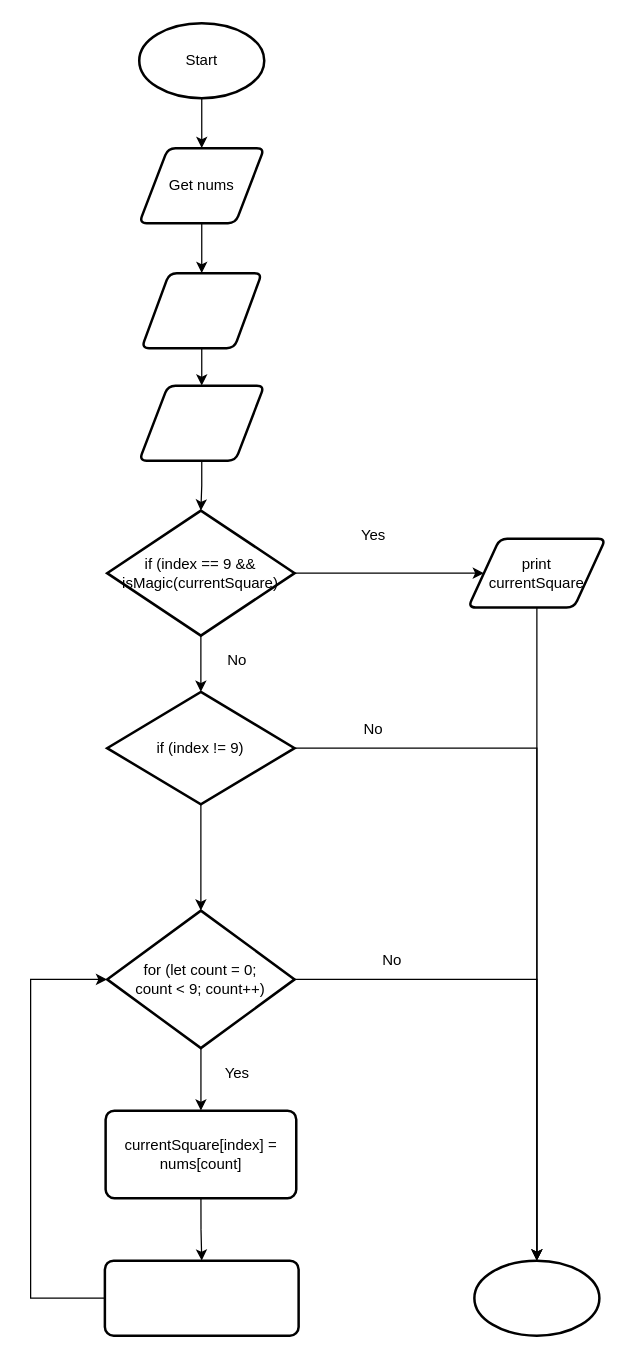
Some shapes in this 629 by 1358 pixel diagram are drawn without their labels. The shapes that lost their labels are listed below. From the top down, each one's centre as x and y in pixels, then its label:
At point (201, 310): "Get currentSquare".
At point (201, 422): "Get index".
At point (201, 1297): "magicSquare(nums, currentSquare, index + 1)".
At point (536, 1297): "Stop".
